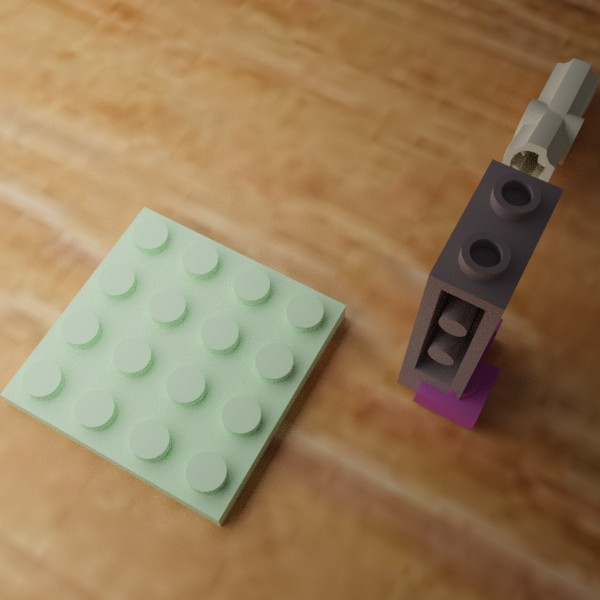lego: (0, 206, 346, 526), (397, 159, 564, 410), (500, 58, 600, 190), (412, 308, 503, 430)
